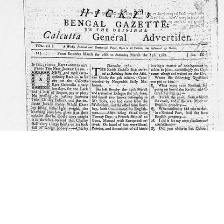news_paper: (21, 0, 224, 133)
